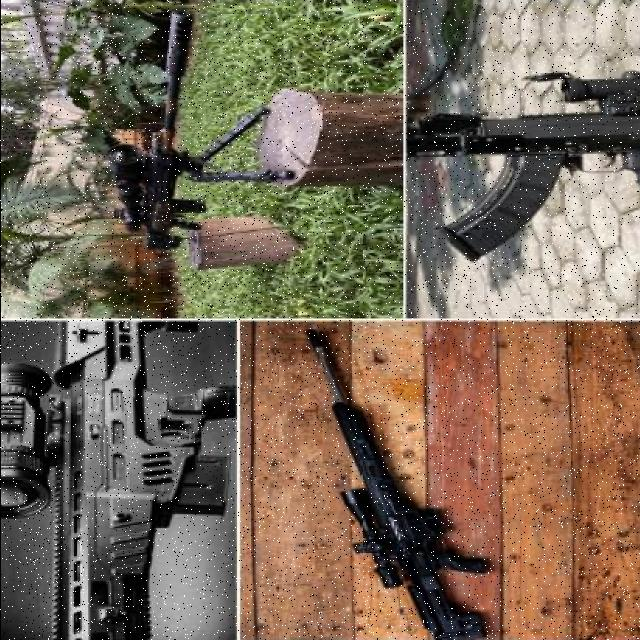Rifle: (0, 323, 240, 640), (311, 337, 493, 637), (410, 71, 639, 262), (108, 9, 206, 252)
